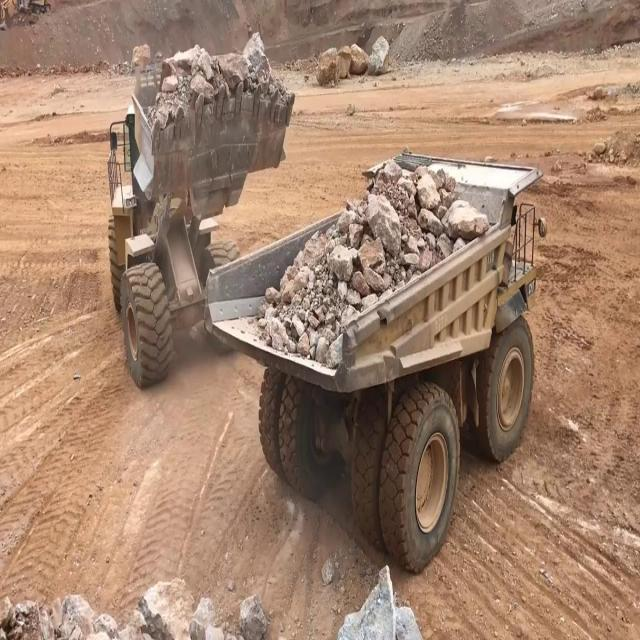Dump Truck: (201, 145, 553, 572)
Loader: (91, 30, 301, 399)
